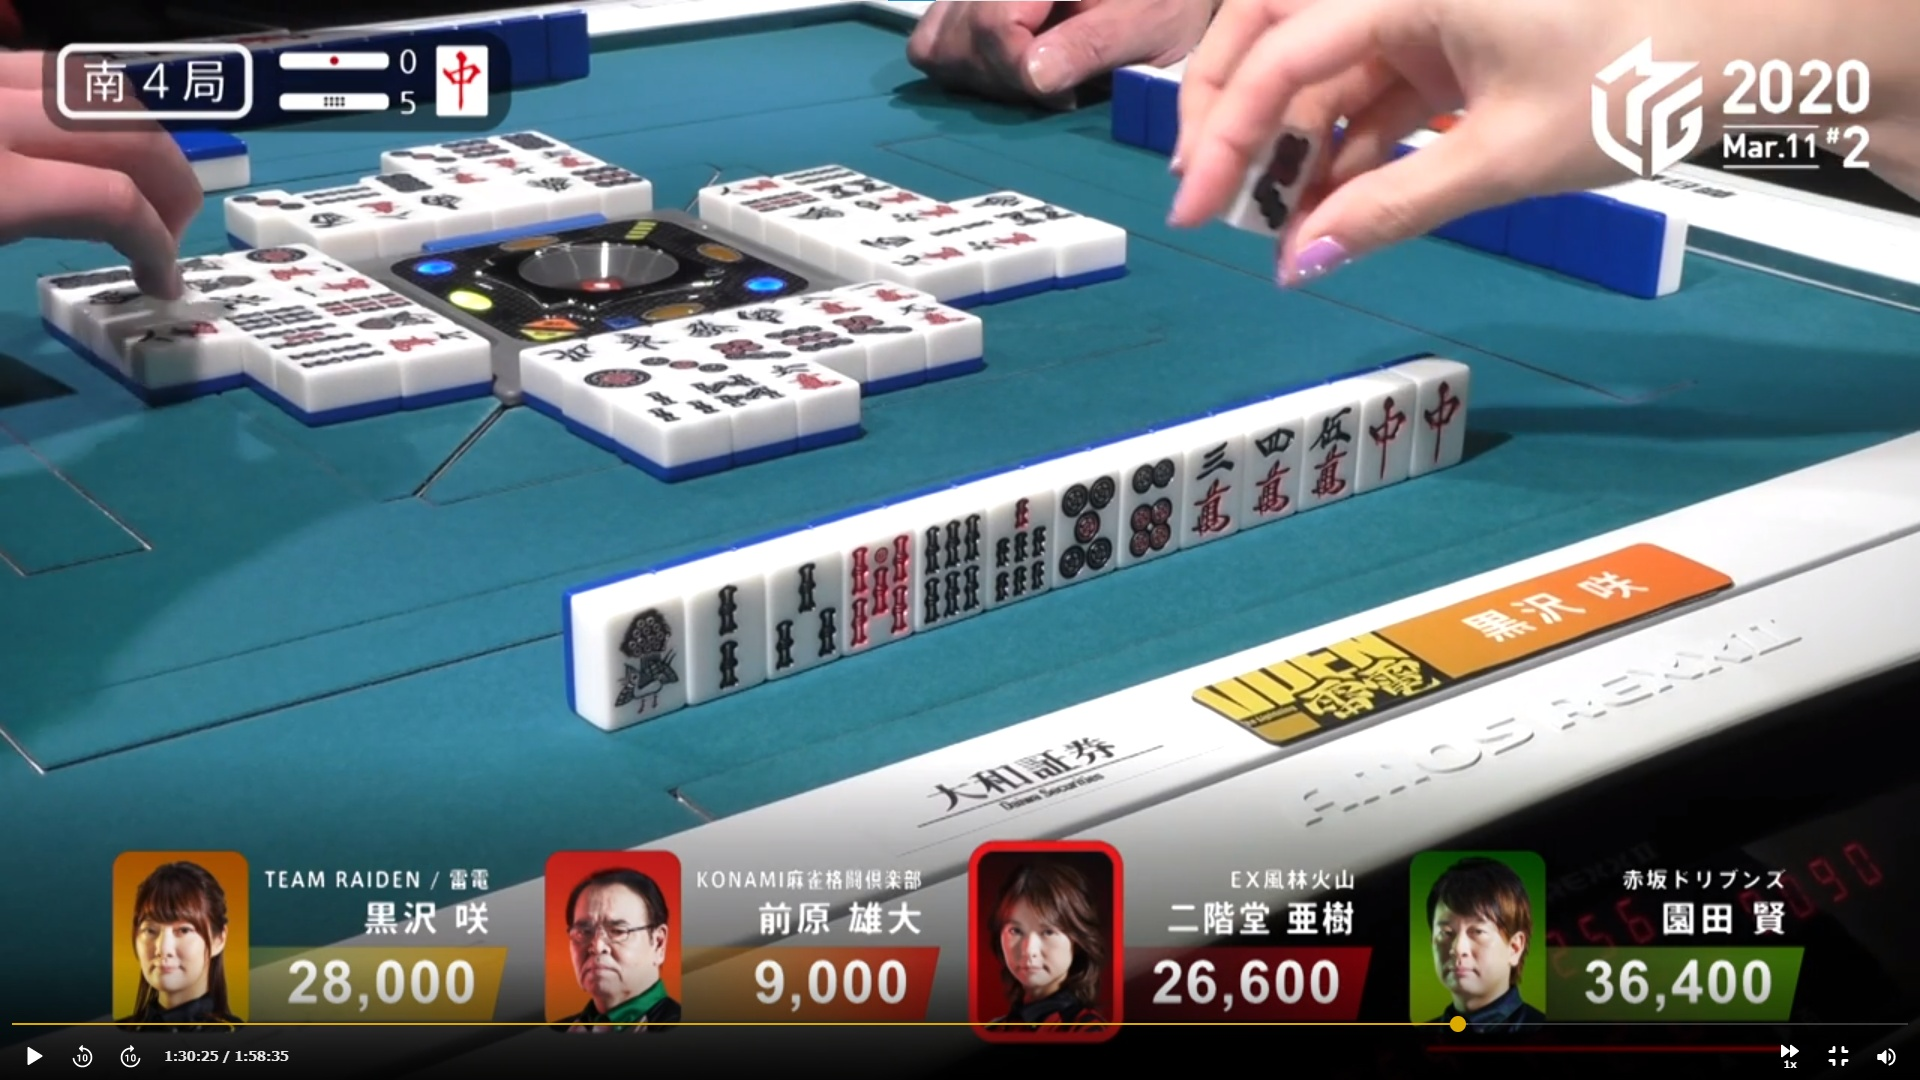1s: (599, 597, 687, 720)
2s: (690, 572, 765, 692)
3m: (1178, 433, 1244, 546)
3s: (765, 558, 843, 667)
4m: (1246, 419, 1295, 521)
5m: (1304, 400, 1353, 504)
5p: (1054, 471, 1120, 585)
5sr: (843, 530, 913, 650)
6p: (1126, 451, 1174, 566)
6s: (914, 508, 984, 621)
7s: (982, 491, 1051, 600)
chun: (1354, 385, 1406, 491), (1416, 373, 1466, 468)
hand_nan_4: (51, 40, 272, 123)
round_5: (276, 84, 429, 127)
team_raiden: (1185, 626, 1456, 749)
